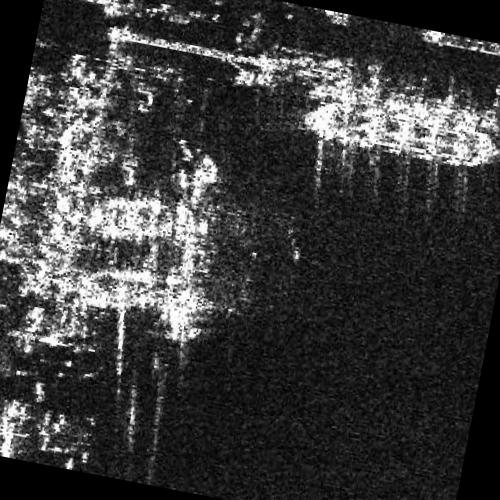ship: (303, 101, 500, 168), (75, 265, 207, 314), (85, 196, 210, 245)
